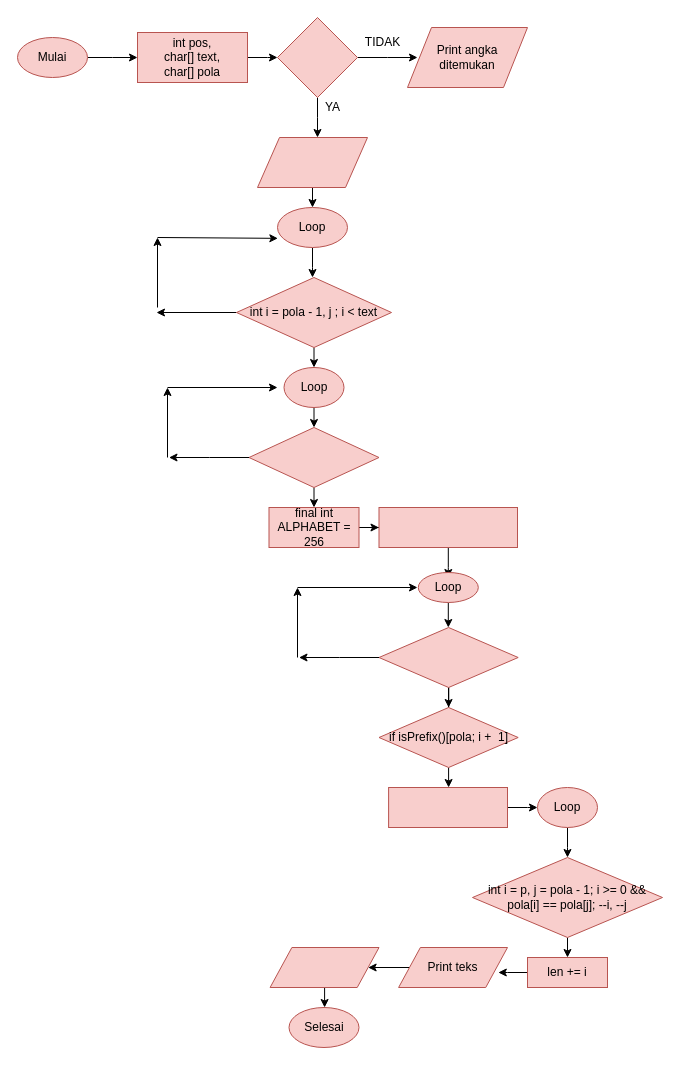
Some shapes in this 680 by 1065 pixel diagram are drawn without their labels. Each missing label, with the centre of its shape:
"if pos == -1" goes at (x=317, y=57).
"int i = pola - 1; i >= 0; --i" goes at (x=448, y=657).
"int PosisiAwalanTerakhir = pola" goes at (x=448, y=527).
"j = pola - 1; pola[j] == text[i]; --i, --j" goes at (x=313, y=457).
"PosisiAwalanTerakhir = i + 1" goes at (x=448, y=807).
"Print No match" goes at (x=312, y=162).
"Print Pola" goes at (x=324, y=967).
